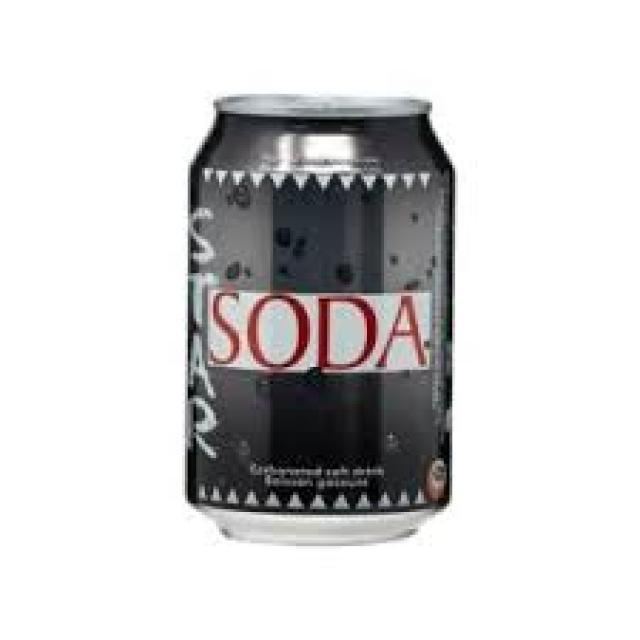Cans: (182, 82, 461, 549)
